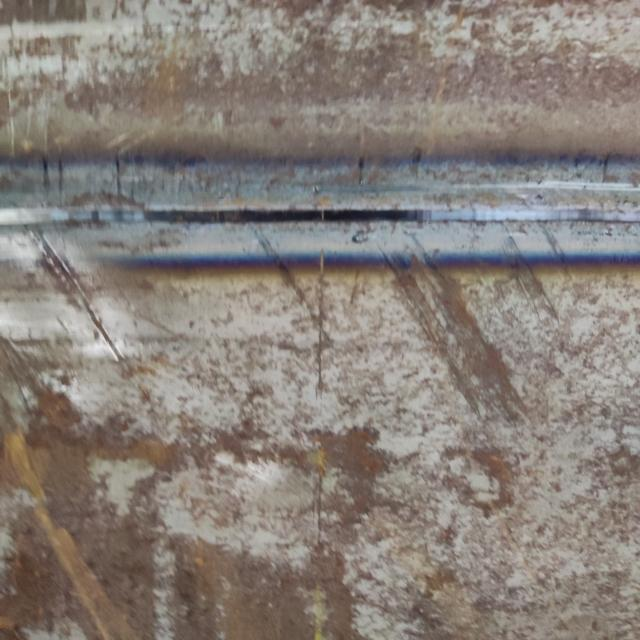seam: (0, 143, 640, 283)
